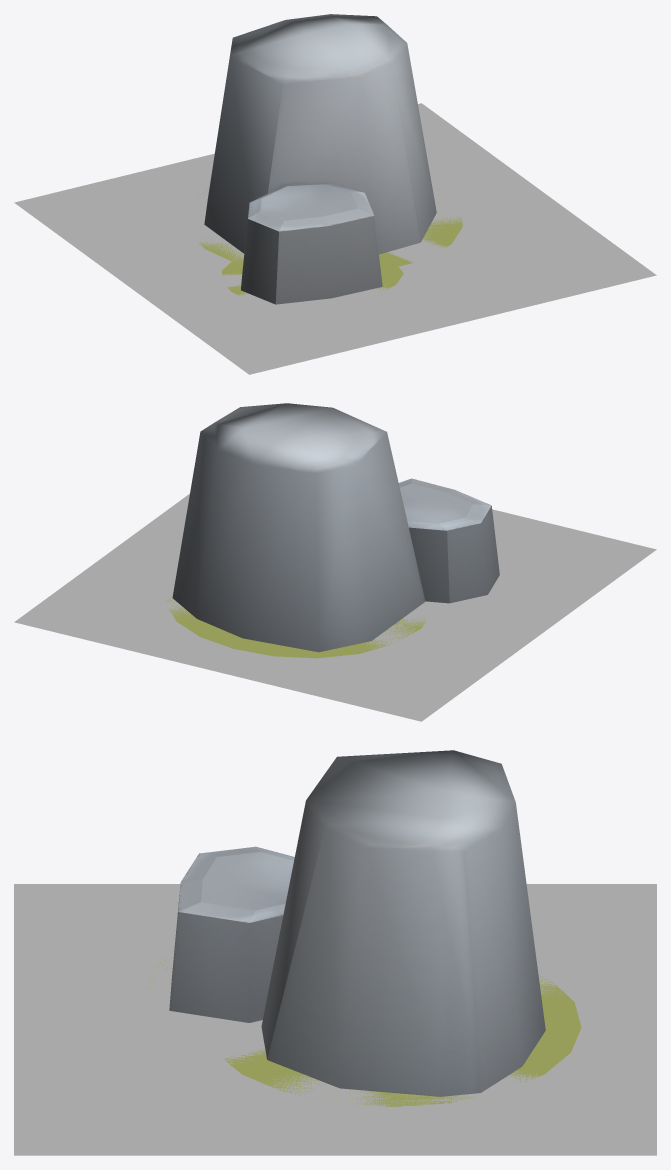
Rendered from Rock_2_Lowpoly.fbx.
3 renders of one model, top to bottom at view 1: azimuth 30°, elevation 25°; view 2: azimuth 150°, elevation 25°; view 3: azimuth 270°, elevation 25°, orthographic. The views are drawn at different scales.
Parts seen in each view (by area): view 1: Rock_2_Grid, LargeRock, SmallRock, Rock_2_Shadow; view 2: LargeRock, Rock_2_Grid, SmallRock, Rock_2_Shadow; view 3: Rock_2_Grid, LargeRock, SmallRock, Rock_2_Shadow.
Boxes of the visible parts, bbox=[...] form: Rock_2_Grid: bbox=[14, 103, 656, 374]; LargeRock: bbox=[204, 14, 436, 254]; SmallRock: bbox=[241, 184, 382, 304]; Rock_2_Shadow: bbox=[199, 189, 462, 296]; LargeRock: bbox=[172, 403, 425, 652]; Rock_2_Grid: bbox=[14, 494, 656, 721]; SmallRock: bbox=[398, 478, 499, 603]; Rock_2_Shadow: bbox=[166, 579, 426, 658]; Rock_2_Grid: bbox=[14, 884, 656, 1155]; LargeRock: bbox=[261, 750, 545, 1096]; SmallRock: bbox=[169, 846, 294, 1022]; Rock_2_Shadow: bbox=[146, 951, 581, 1106].
Bounding box in the file's own units: 100 × 40.57 × 100.
